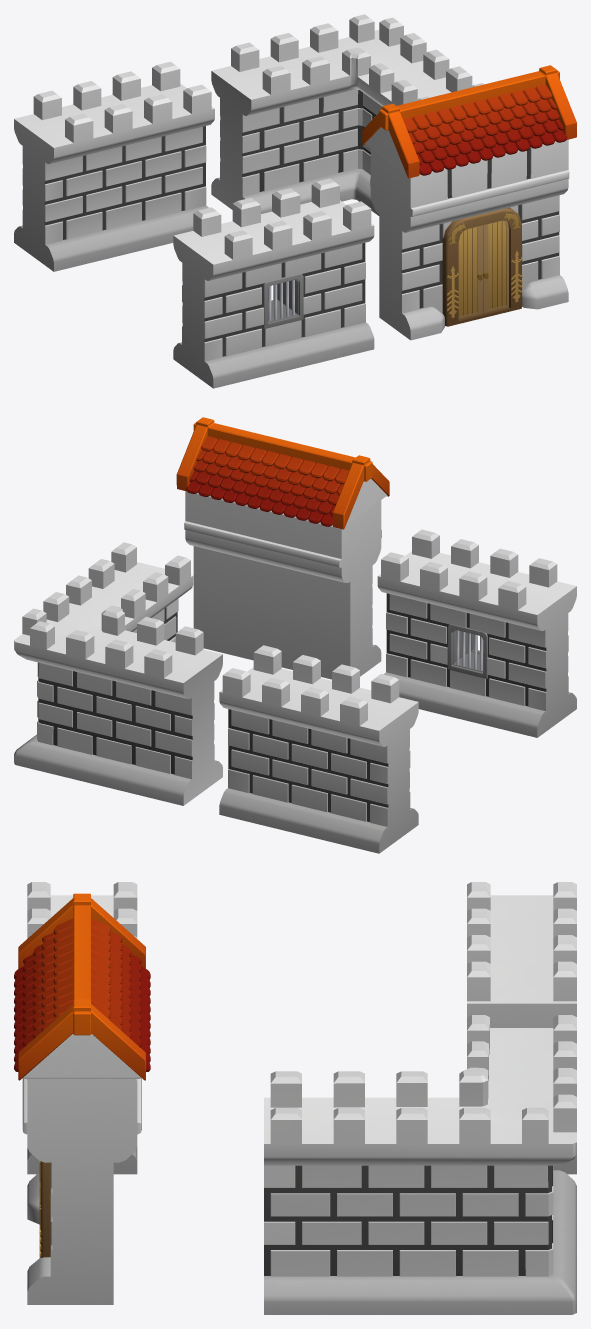
The model's file is walls.fbx.
3 renders of one model, top to bottom at view 1: azimuth 30°, elevation 25°; view 2: azimuth 150°, elevation 25°; view 3: azimuth 270°, elevation 25°, orthographic. The views are drawn at different scales.
Parts seen in each view (by area): view 1: a1, window, straight, corner; view 2: a1, corner, straight, window; view 3: corner, a1, straight, window.
Part boxes in pixels (box(x1,y1,x2,y2)): a1: box(362, 65, 576, 340); window: box(173, 178, 374, 388); straight: box(14, 61, 214, 271); corner: box(211, 14, 483, 215); a1: box(176, 417, 389, 679); corner: box(14, 542, 222, 805); straight: box(219, 645, 418, 853); window: box(377, 529, 576, 737); corner: box(264, 1015, 576, 1314); a1: box(14, 893, 150, 1304); straight: box(467, 882, 576, 1174); window: box(27, 882, 137, 1174).
Bounding box in the file's own units: 18.75 × 10.6 × 17.92.
